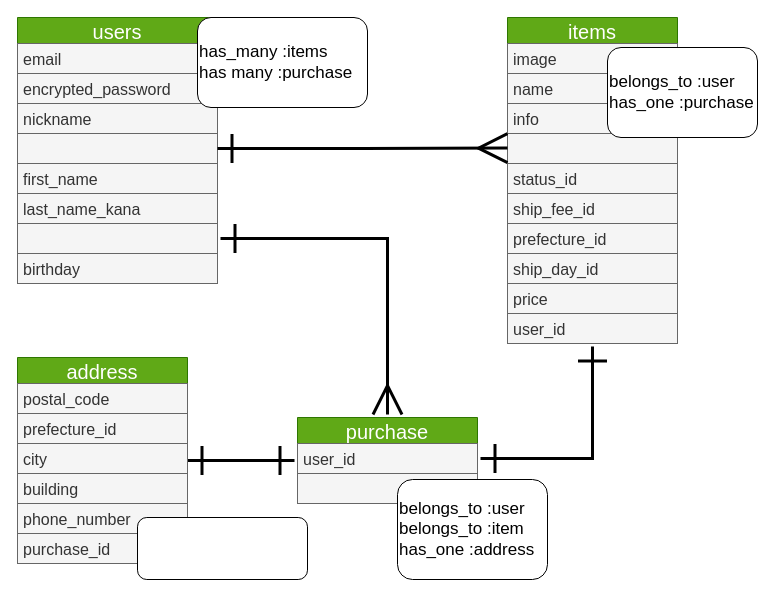
The diagram is 775 pixels wide and 597 high, and some of its shapes have lost their labels. The centre of each missing label's shape, as x and y in pixels:
belongs_to :purchase: point (222, 548)
category_id: point (592, 148)
first_name_kana: point (117, 238)
item_id: point (387, 488)
last_name: point (117, 148)
